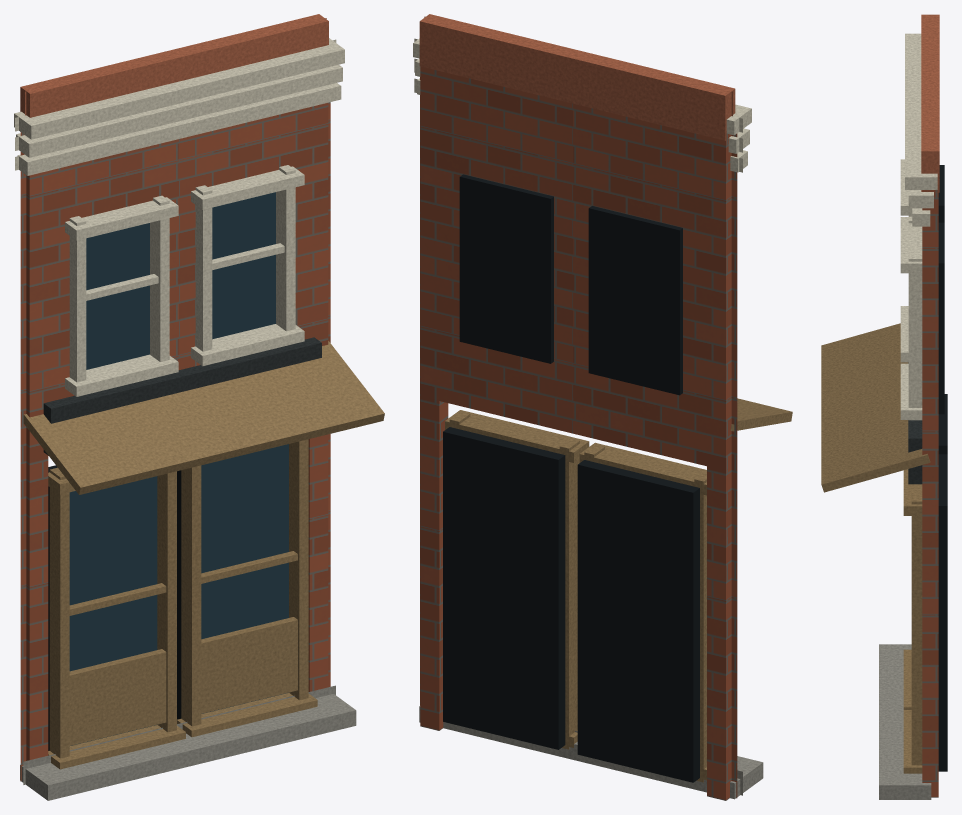
File: CLSTGA12_lod2.glb
3 renders of one model, left to right at view 1: azimuth 30°, elevation 25°; view 2: azimuth 150°, elevation 25°; view 3: azimuth 270°, elevation 25°, orthographic. The views are drawn at different scales.
Visible parts, largest first — view 1: CLSTGA12_FRONT_LOD2; view 2: CLSTGA12_FRONT_LOD2; view 3: CLSTGA12_FRONT_LOD2.
Boxes of the visible parts, x1,y1,x2,y2 form: CLSTGA12_FRONT_LOD2: [14, 14, 384, 800]; CLSTGA12_FRONT_LOD2: [413, 14, 792, 800]; CLSTGA12_FRONT_LOD2: [821, 14, 947, 799].
Bounding box in the file's own units: 3.44 × 7.05 × 1.25.
Materials: 9 (7 with a texture image).
